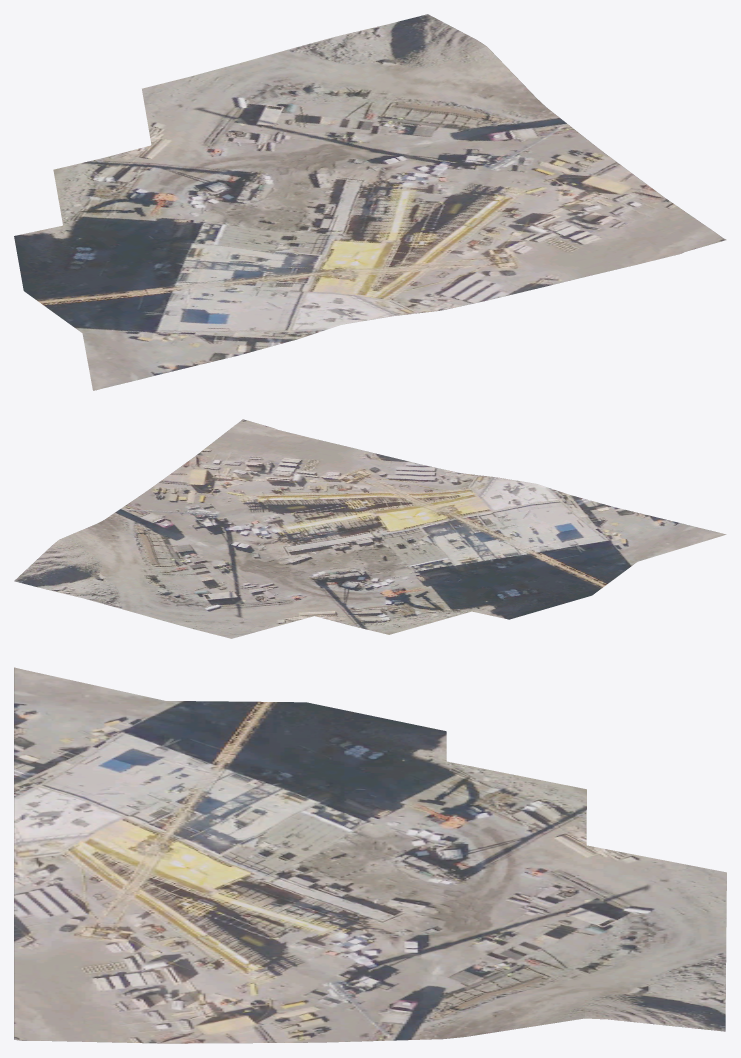
File: CM_Terrain_24486978_6822046.fbx
3 views of the same model, one above another, from view 1: azimuth 30°, elevation 25°; view 2: azimuth 150°, elevation 25°; view 3: azimuth 270°, elevation 25° (orthographic). The views are drawn at different scales.
Visible parts, largest first — view 1: CM_Terrain_24486978_6822046_LOD0; view 2: CM_Terrain_24486978_6822046_LOD0; view 3: CM_Terrain_24486978_6822046_LOD0.
Part boxes in pixels (bbox=[...]): CM_Terrain_24486978_6822046_LOD0: bbox=[14, 14, 726, 390]; CM_Terrain_24486978_6822046_LOD0: bbox=[14, 419, 726, 638]; CM_Terrain_24486978_6822046_LOD0: bbox=[14, 667, 726, 1043].
Size of what is drawn, in the model's own units: 92.75 by 3.06 by 75.95.
